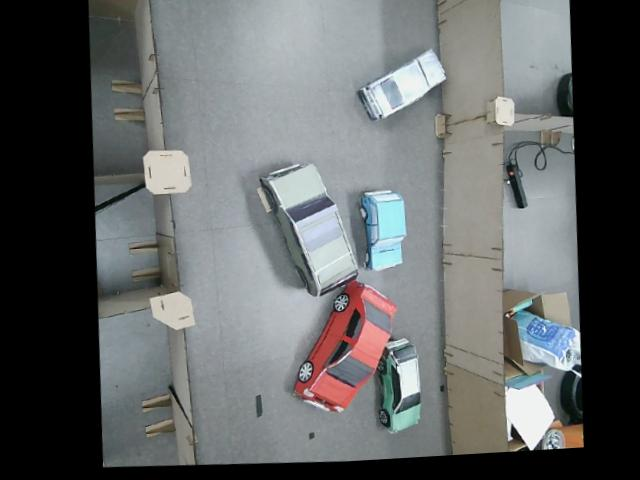car: (282, 274, 407, 417), (254, 158, 365, 300), (353, 47, 450, 123), (374, 334, 425, 433), (355, 186, 410, 272)
